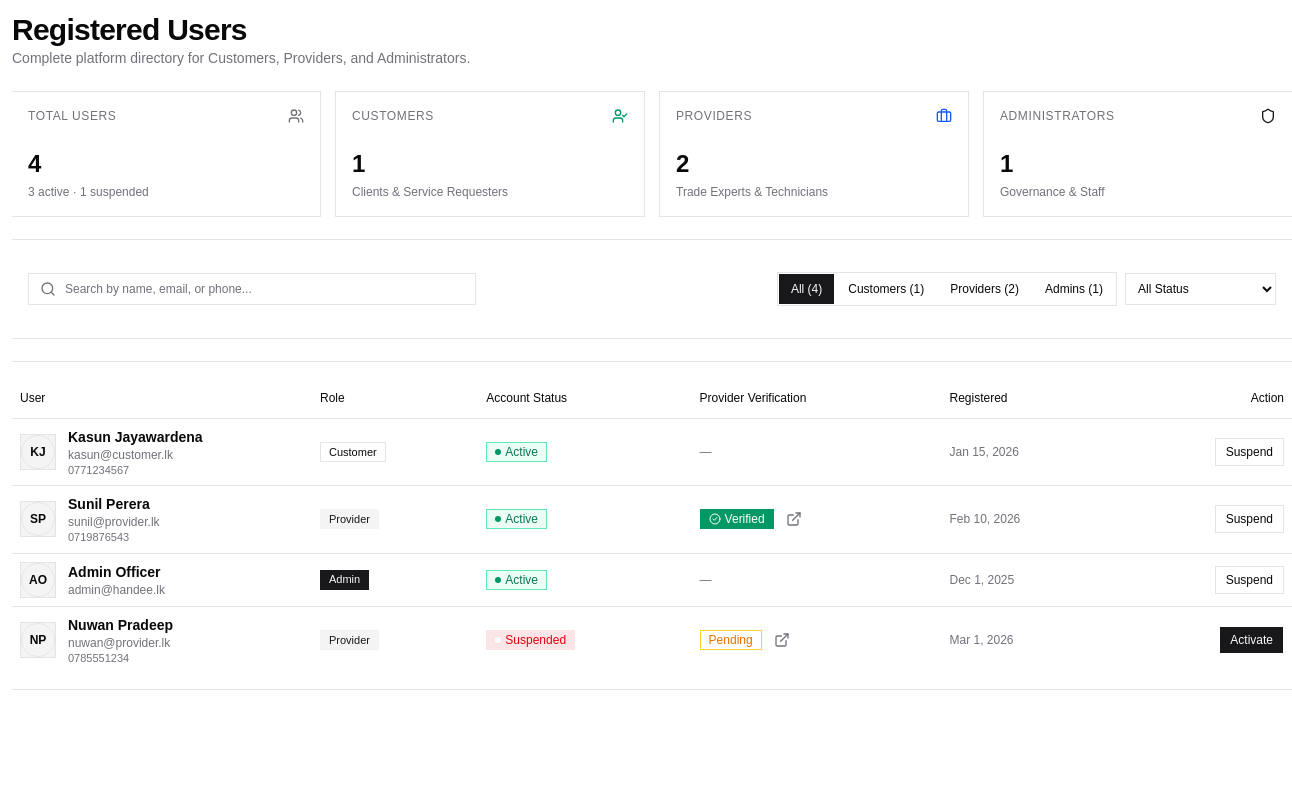
UsersManagement Page › filters users by role tab
expect the text "Kasun Jayawardena" is shown: met, box [68,426,203,446]
// Click Customers filter tab
What coordinates should you click on to do the following:
click the button "Customers (1)"
I would click on:
 (886, 289)
Its box is [835,273,937,305].
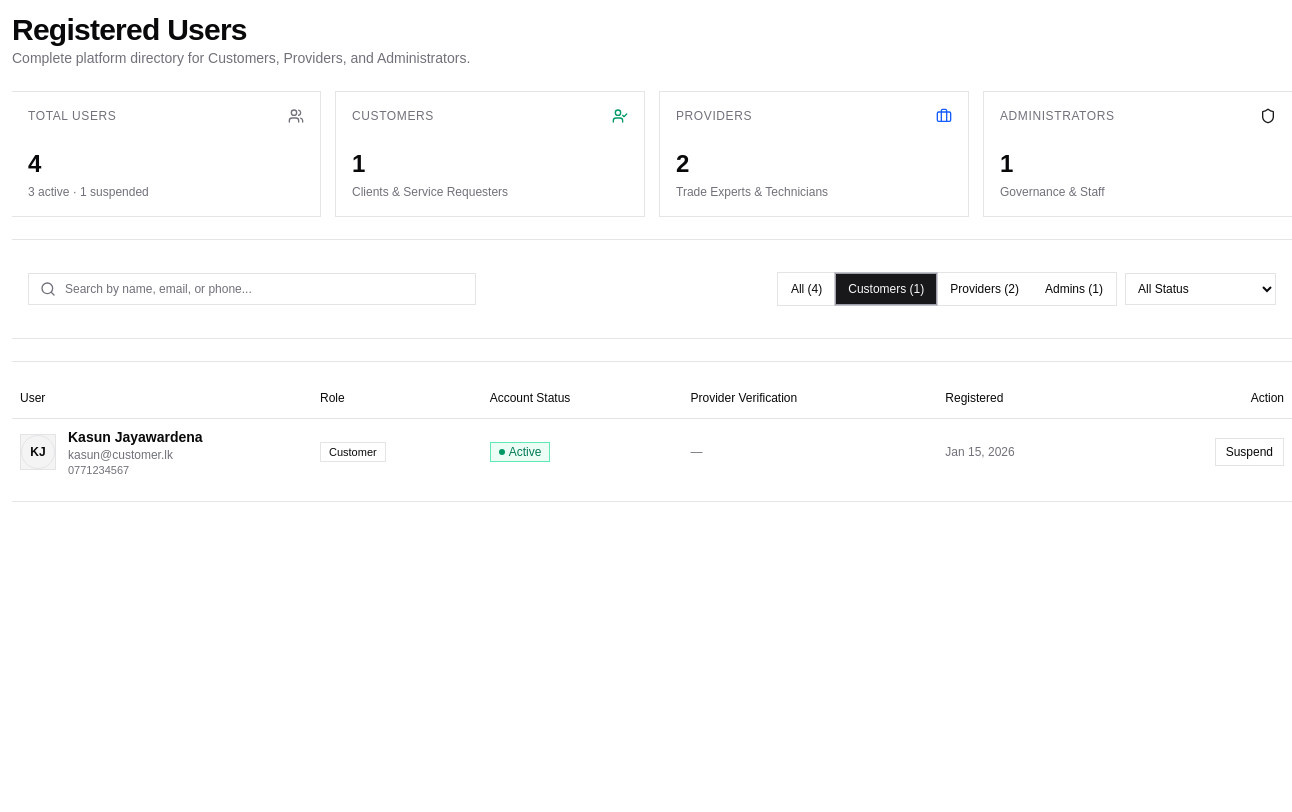
expect the text "Kasun Jayawardena" is shown: met, box [68,426,203,446]
expect the text "Sunil Perera" is gone: met
expect the text "Admin Officer" is gone: met
// Click Providers filter tab
What coordinates should you click on to do the following:
click the button "Providers (2)"
I would click on:
 (985, 289)
Its box is [937,273,1032,305].
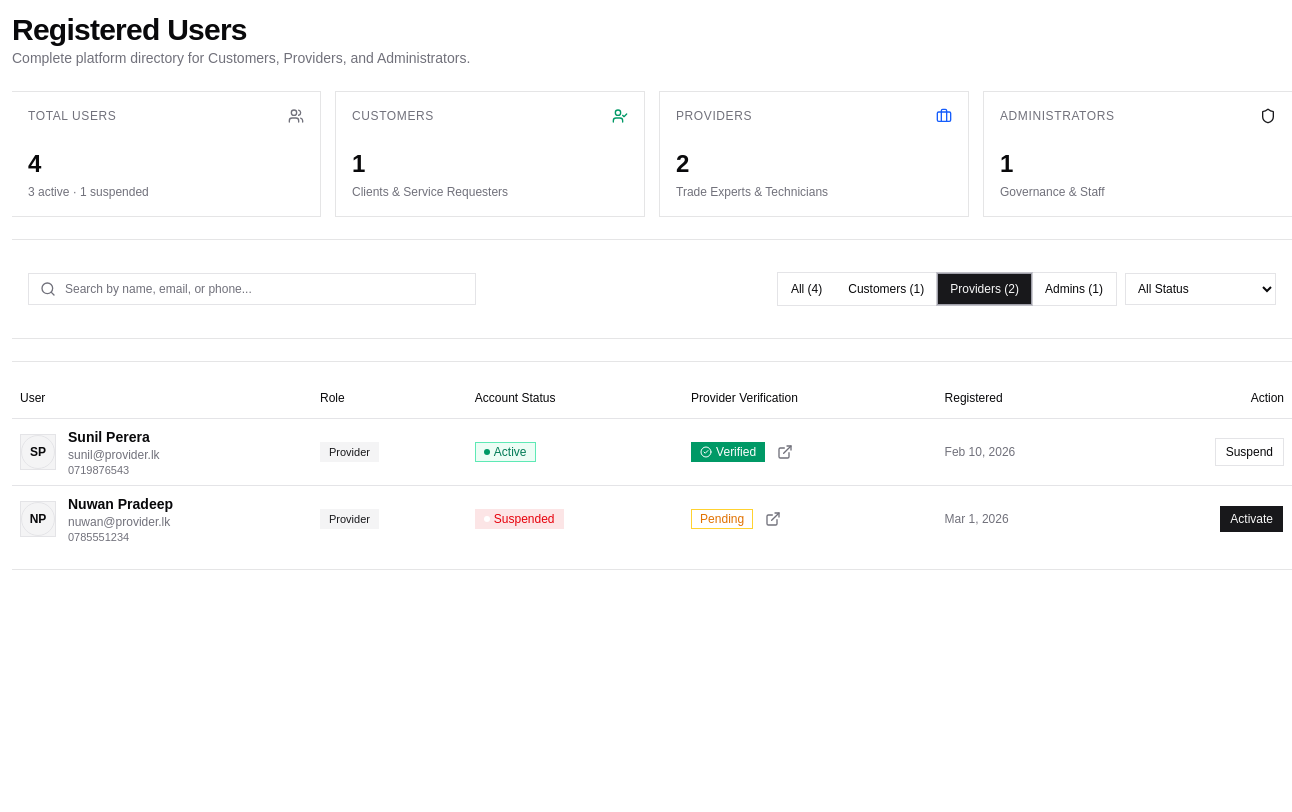
expect the text "Kasun Jayawardena" is gone: met
expect the text "Sunil Perera" is shown: met, box [68,426,160,446]
expect the text "Nuwan Pradeep" is shown: met, box [68,494,173,514]
